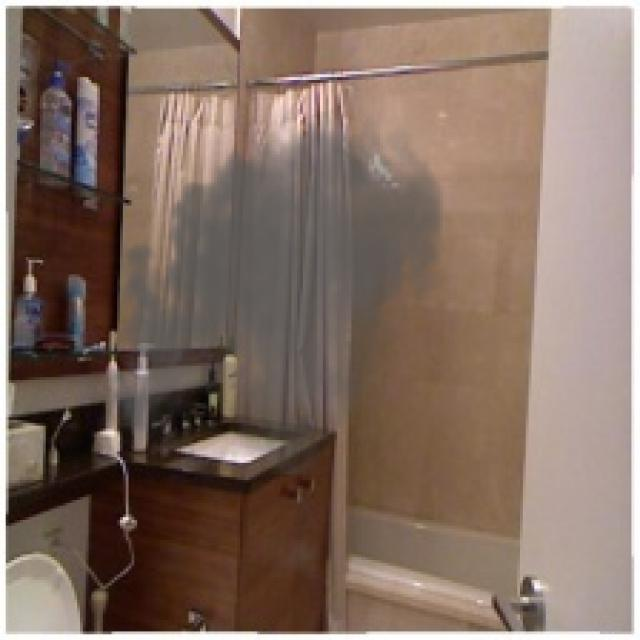Smoke: (100, 94, 452, 474)
